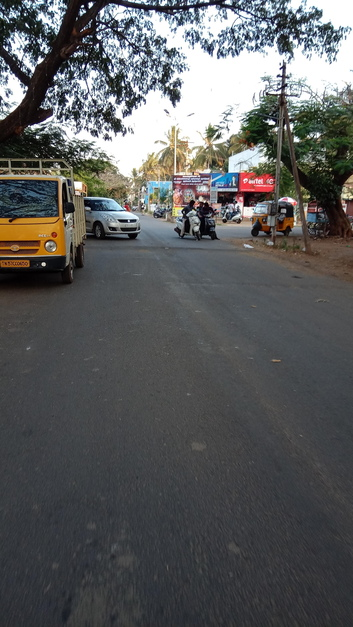bump: (81, 241, 253, 256)
